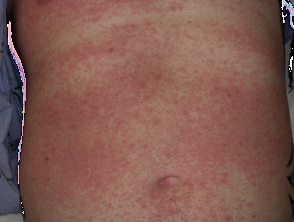SJS-TEN: (12, 2, 286, 222)
